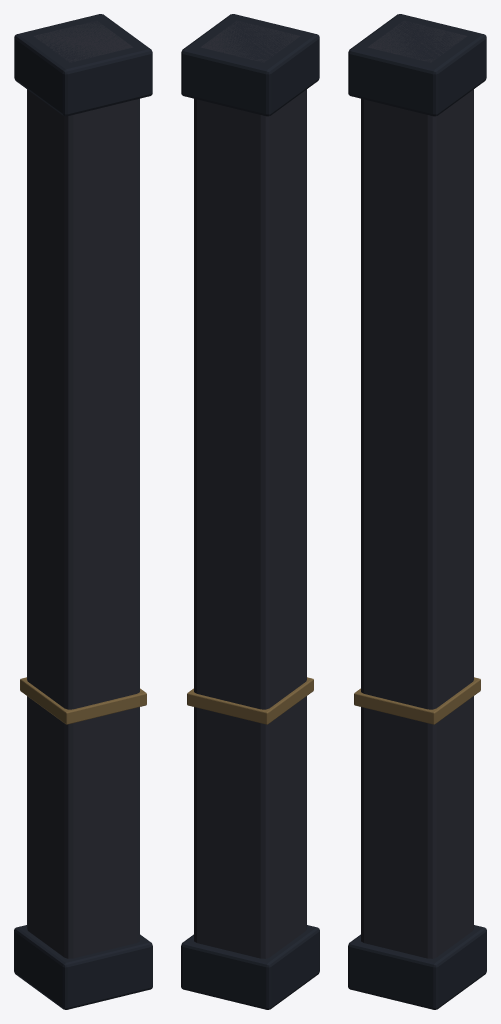
The model's file is pillar.fbx.
3 views of the same model, side by side, from view 1: azimuth 30°, elevation 25°; view 2: azimuth 150°, elevation 25°; view 3: azimuth 330°, elevation 25° (orthographic).
Parts seen in each view (by area): view 1: pillar; view 2: pillar; view 3: pillar.
Boxes of the visible parts, x1,y1,x2,y2 form: pillar: [14, 14, 152, 1009]; pillar: [181, 14, 319, 1009]; pillar: [348, 14, 486, 1009].
Bounding box in the file's own units: 1.2 × 12 × 1.2.
1 material, 1 textured.
